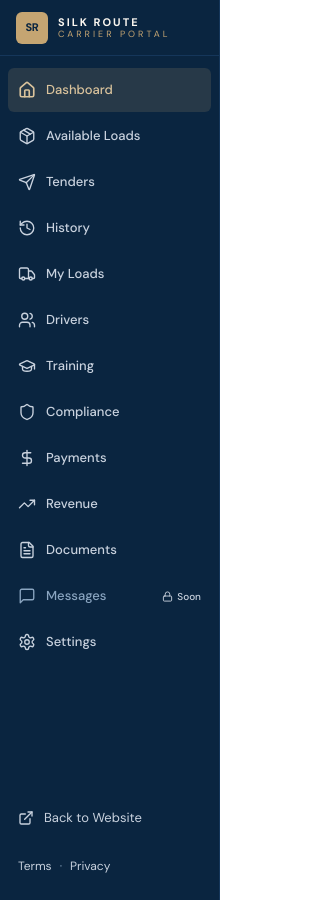
Test: a locked nav item › is not a link, says Available soon, and explains itself on tap
Expected: the text "Messages open with the next release." is not shown
Click the button with aria-label "Messages: Available soon".
click(110, 596)  # box [8,574,211,618]
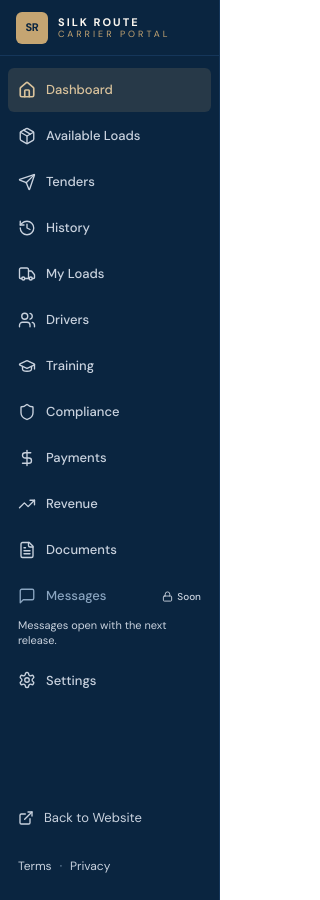
Now the text "Messages open with the next release." is shown, box [18,618,166,647]
